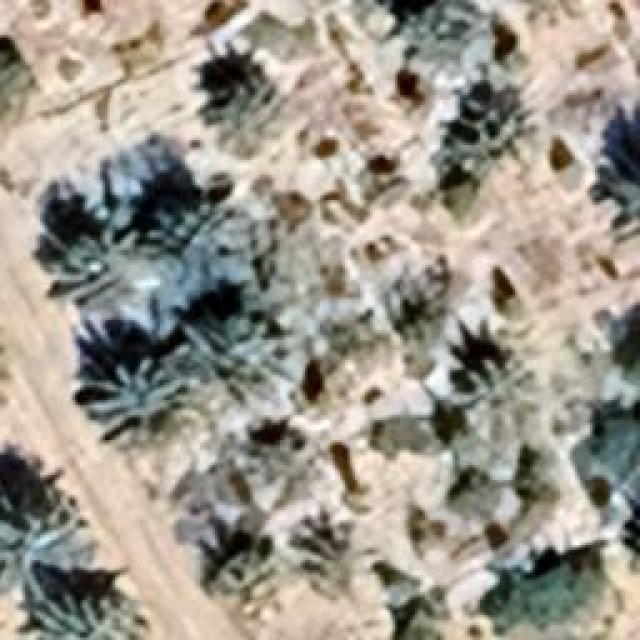PalmTree: (50, 85, 615, 174), (77, 25, 436, 85), (48, 225, 172, 340), (80, 354, 190, 468), (0, 454, 95, 572), (180, 312, 290, 412), (405, 5, 525, 95), (150, 200, 248, 285), (380, 262, 465, 358), (26, 572, 149, 638), (450, 350, 540, 440), (452, 81, 538, 154), (260, 426, 335, 506), (204, 534, 276, 608), (296, 524, 362, 602), (212, 74, 282, 136), (513, 0, 598, 33), (612, 299, 640, 399), (0, 36, 31, 126), (0, 38, 21, 125), (622, 496, 640, 578), (629, 496, 640, 578)
